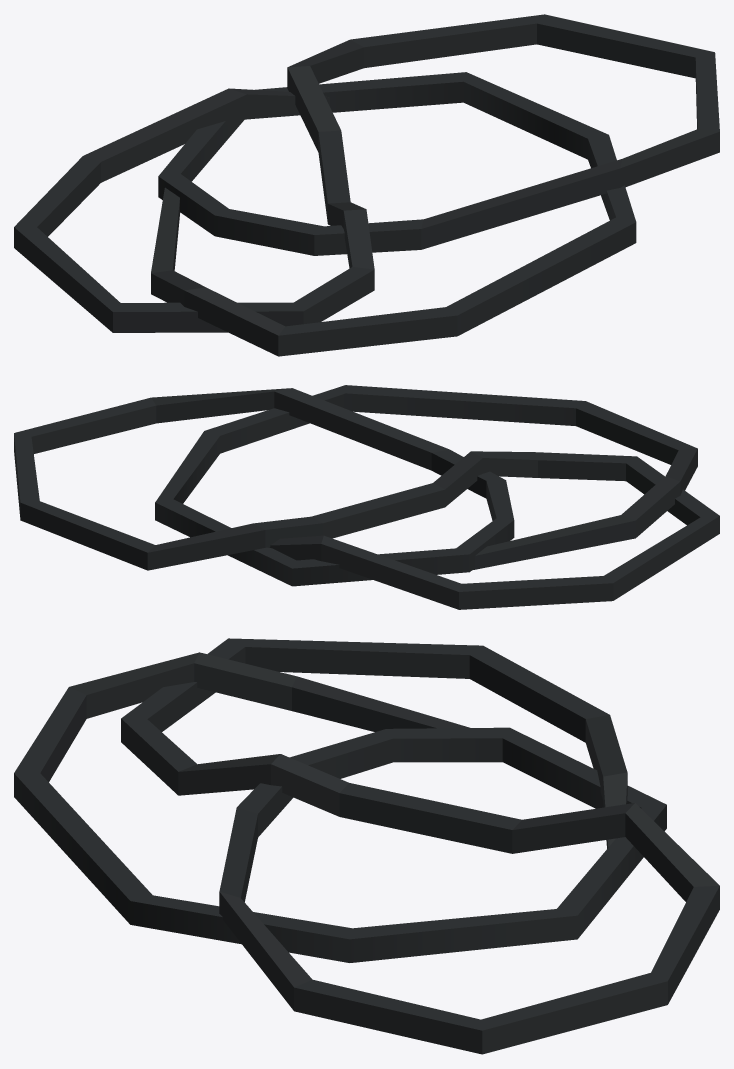
The model's file is SM_Prop_Wire_Ground_01.glb.
The picture shows the model from 3 angles, top to bottom: view 1: azimuth 30°, elevation 25°; view 2: azimuth 150°, elevation 25°; view 3: azimuth 270°, elevation 25°; orthographic projection. The views are drawn at different scales.
Parts seen in each view (by area): view 1: SM_Prop_Wire_Ground_01; view 2: SM_Prop_Wire_Ground_01; view 3: SM_Prop_Wire_Ground_01.
Part boxes in pixels (box(x1,y1,x2,y2)): SM_Prop_Wire_Ground_01: box(14, 14, 719, 356); SM_Prop_Wire_Ground_01: box(14, 385, 719, 609); SM_Prop_Wire_Ground_01: box(14, 638, 719, 1054).
Bounding box in the file's own units: 1.31 × 0.0858 × 0.9841.
1 material, 1 textured.
